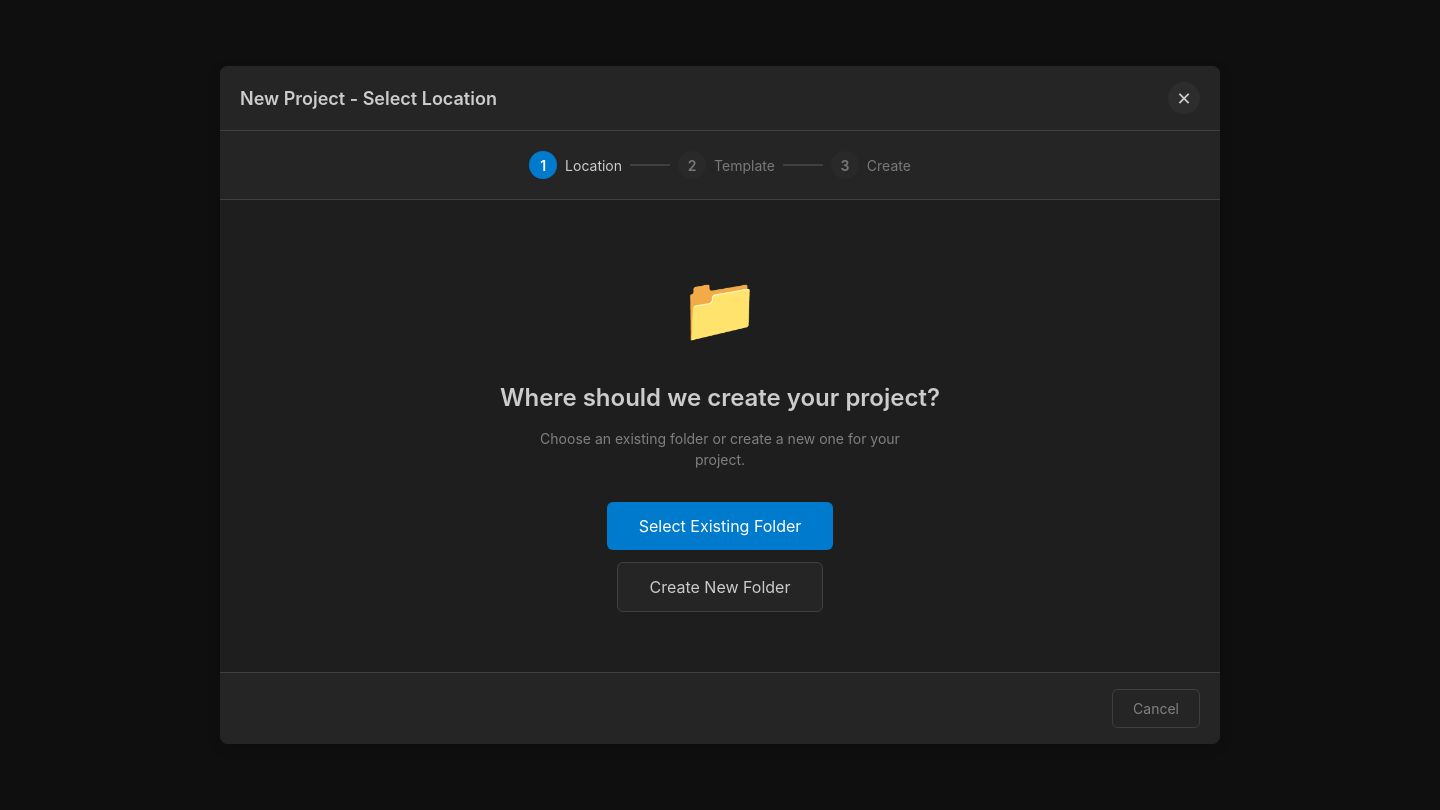
Scenario: NewProjectWizard › allows going back from template selection
Step 1. Click the button "Select Existing Folder" → (720, 526), box [607,502,833,550]
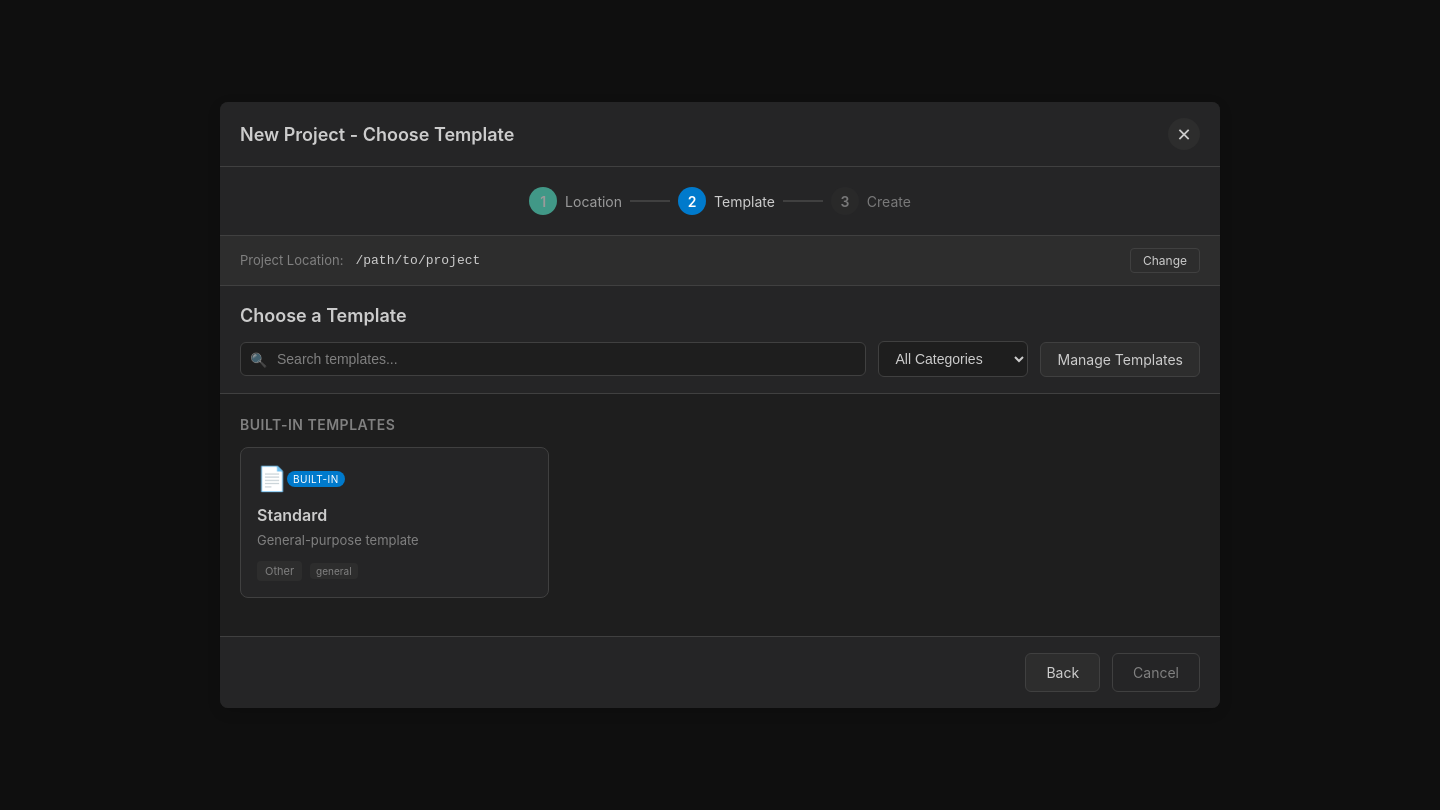
Expected: the heading "New Project - Choose Template" is shown, [240,120,514,148]
Step 2. Click the button "Change" → (1165, 260), box [1130,248,1200,273]
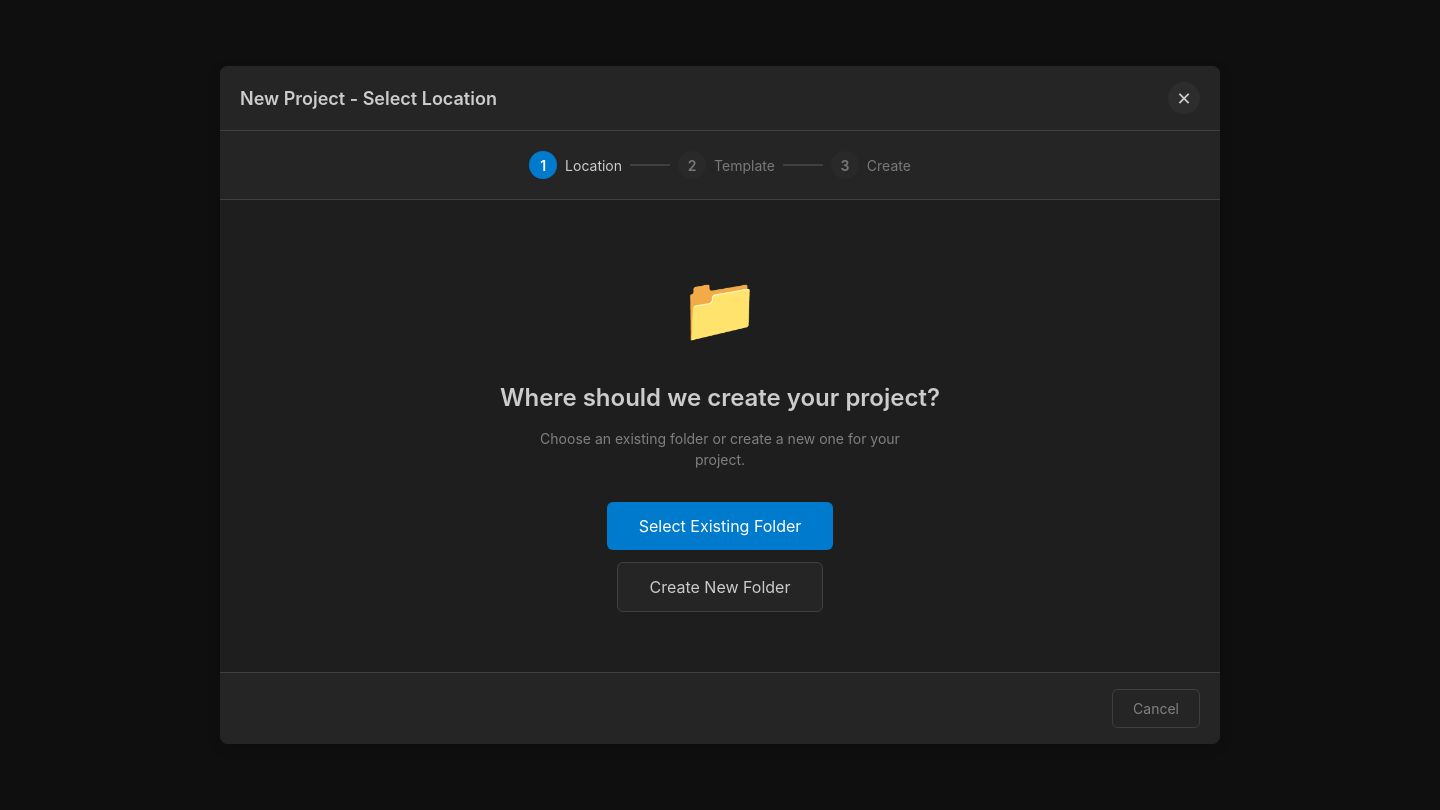
Expected: the heading "New Project - Select Location" is shown, [240,84,497,112]
